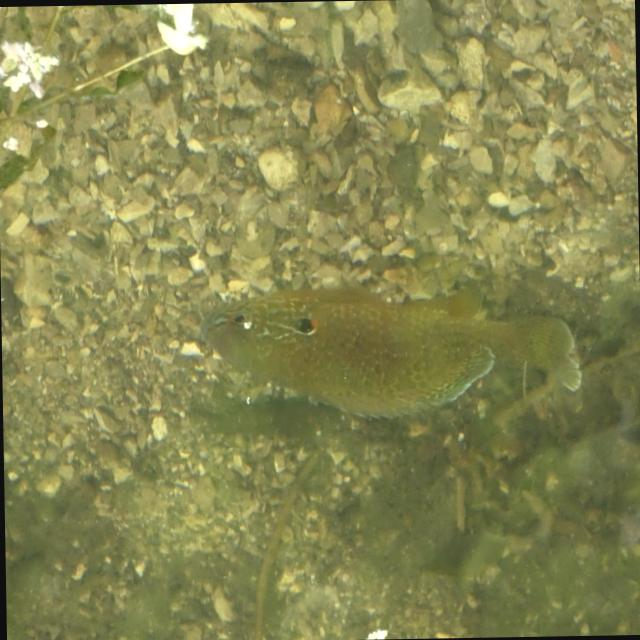Gunes Levregi: (196, 277, 584, 425)
